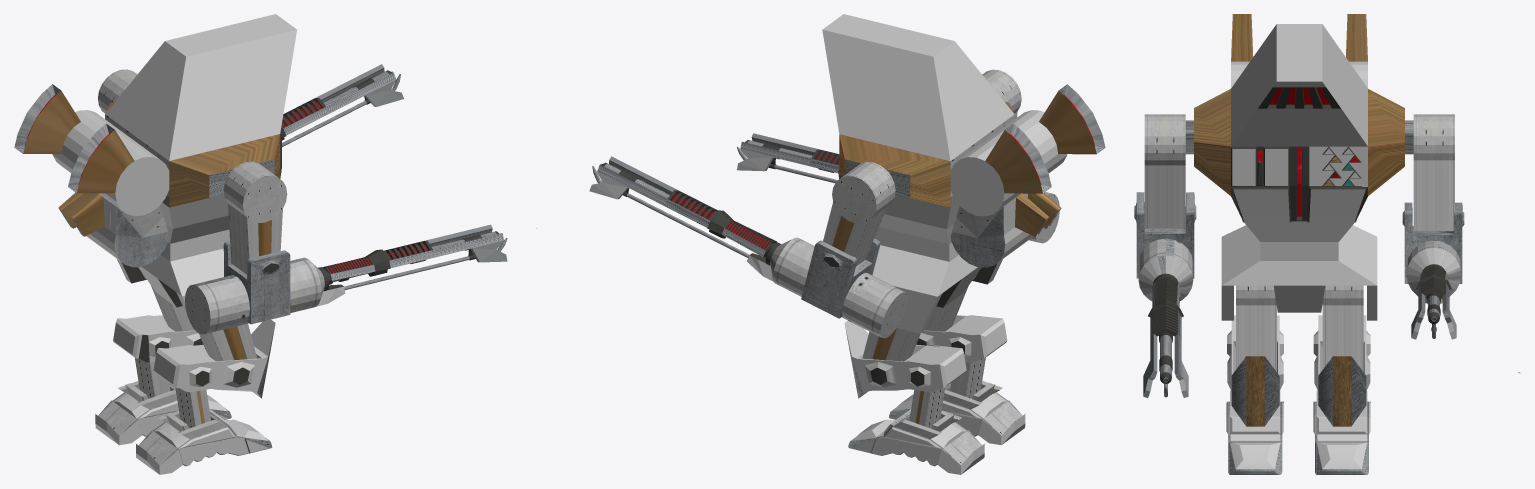
Rendered from Mech.fbx.
3 renders of one model, left to right at view 1: azimuth 30°, elevation 25°; view 2: azimuth 150°, elevation 25°; view 3: azimuth 270°, elevation 25°, orthographic. The views are drawn at different scales.
Parts seen in each view (by area): view 1: pCube1, pCylinder15, pCylinder11, pCylinder10, pCube3, pCube4, pCylinder12, pCube5, pCube2, pCylinder1, pCylinder2, pCylinder6 (+2 smaller); view 2: pCube1, pCylinder15, pCylinder12, pCube5, pCylinder6, pCube2, pCube3, pCylinder11, pCube4, pCylinder3, pCylinder4, pCylinder10 (+2 smaller); view 3: pCube1, pCylinder11, pCylinder12, pCylinder6, pCylinder10, pCube2, pCube4, pCube3, pCube5, pCylinder3, pCylinder1, pCylinder15.
Part boxes in pixels (bbox=[...]): pCube1: bbox=[105, 14, 296, 314]; pCylinder15: bbox=[14, 84, 169, 267]; pCylinder11: bbox=[185, 224, 507, 334]; pCylinder10: bbox=[223, 161, 287, 274]; pCube3: bbox=[136, 409, 272, 474]; pCube4: bbox=[153, 319, 275, 398]; pCylinder12: bbox=[280, 64, 403, 146]; pCube5: bbox=[95, 381, 231, 445]; pCube2: bbox=[113, 315, 203, 362]; pCylinder1: bbox=[199, 323, 256, 361]; pCylinder2: bbox=[175, 387, 211, 428]; pCylinder6: bbox=[98, 69, 137, 113]; pCube1: bbox=[822, 14, 1014, 333]; pCylinder15: bbox=[950, 84, 1105, 267]; pCylinder12: bbox=[589, 156, 908, 338]; pCube5: bbox=[848, 409, 984, 474]; pCylinder6: bbox=[823, 162, 895, 266]; pCube2: bbox=[844, 320, 966, 398]; pCube3: bbox=[889, 381, 1025, 445]; pCylinder11: bbox=[737, 133, 1059, 243]; pCube4: bbox=[916, 315, 1007, 362]; pCylinder3: bbox=[862, 328, 920, 361]; pCylinder4: bbox=[909, 387, 945, 428]; pCylinder10: bbox=[982, 69, 1021, 118]; pCube1: bbox=[1185, 24, 1413, 320]; pCylinder11: bbox=[1134, 192, 1196, 397]; pCylinder12: bbox=[1402, 202, 1464, 339]; pCylinder6: bbox=[1413, 114, 1454, 233]; pCylinder10: bbox=[1144, 114, 1185, 229]; pCube2: bbox=[1313, 315, 1370, 426]; pCube4: bbox=[1227, 315, 1283, 426]; pCube3: bbox=[1226, 390, 1283, 474]; pCube5: bbox=[1313, 390, 1370, 474]; pCylinder3: bbox=[1322, 285, 1363, 371]; pCylinder1: bbox=[1236, 285, 1276, 371]; pCylinder15: bbox=[1231, 14, 1367, 87].
Bounding box in the file's own units: 3.91 × 3.36 × 2.82.
